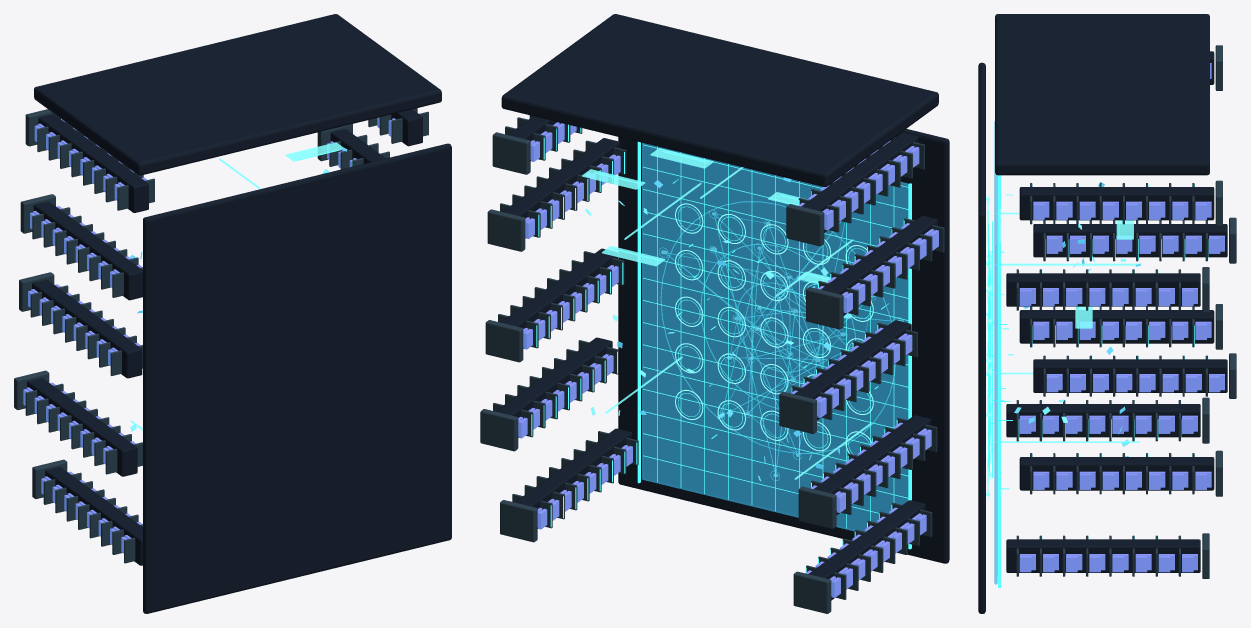
The model's file is BattleField.fbx.
3 views of the same model, side by side, from view 1: azimuth 30°, elevation 25°; view 2: azimuth 150°, elevation 25°; view 3: azimuth 270°, elevation 25° (orthographic). The views are drawn at different scales.
Visible parts, largest first — view 1: VoidFoundation, NexusWall, TowerSpine.002, TowerSpine.001, TowerSpine.004, TowerSpine.003, TowerSpine, TowerSpine.008, TowerSpine.009; view 2: VoidFoundation, GlassDeck, NexusWall, TowerSpine.006, TowerSpine.005, TowerSpine.008, TowerSpine.007, TowerSpine.002, TowerSpine.003, TowerSpine.004, TowerSpine, TowerSpine.001 (+13 smaller); view 3: NexusWall, VoidFoundation, TowerSpine.006, TowerSpine.009, TowerSpine.007, TowerSpine.005, TowerSpine.008, TowerSpine, TowerSpine.001, TowerSpine.002, GlassDeck, EdgeRail.001 (+11 smaller).
Part boxes in pixels (x1,y1,x2,y2): VoidFoundation: (143, 143, 451, 613); NexusWall: (34, 14, 441, 175); TowerSpine.002: (32, 279, 142, 378); TowerSpine.001: (27, 378, 137, 476); TowerSpine.004: (38, 114, 148, 212); TowerSpine.003: (33, 201, 142, 300); TowerSpine: (45, 467, 142, 565); TowerSpine.008: (330, 129, 385, 163); TowerSpine.009: (391, 109, 422, 146); VoidFoundation: (618, 129, 949, 563); GlassDeck: (642, 142, 908, 531); NexusWall: (501, 14, 938, 186); TowerSpine.006: (495, 337, 612, 437); TowerSpine.005: (515, 428, 631, 528); TowerSpine.008: (503, 138, 619, 237); TowerSpine.007: (500, 248, 617, 348); TowerSpine.002: (794, 320, 911, 420); TowerSpine.003: (821, 215, 937, 315); TowerSpine.004: (801, 132, 918, 232); TowerSpine: (808, 500, 925, 600); TowerSpine.001: (813, 415, 930, 514); NexusWall: (995, 14, 1209, 175); VoidFoundation: (978, 62, 985, 613); TowerSpine.006: (1019, 457, 1214, 490); TowerSpine.009: (1019, 187, 1214, 220); TowerSpine.007: (1033, 359, 1227, 392); TowerSpine.005: (1006, 539, 1200, 572); TowerSpine.008: (1006, 273, 1200, 306); TowerSpine: (1006, 404, 1200, 437); TowerSpine.001: (1019, 310, 1214, 343); TowerSpine.002: (1033, 224, 1227, 257); GlassDeck: (994, 121, 997, 584); EdgeRail.001: (998, 242, 1000, 587).
Size of the model in its own units: 18.9 by 24.05 by 12.48.
